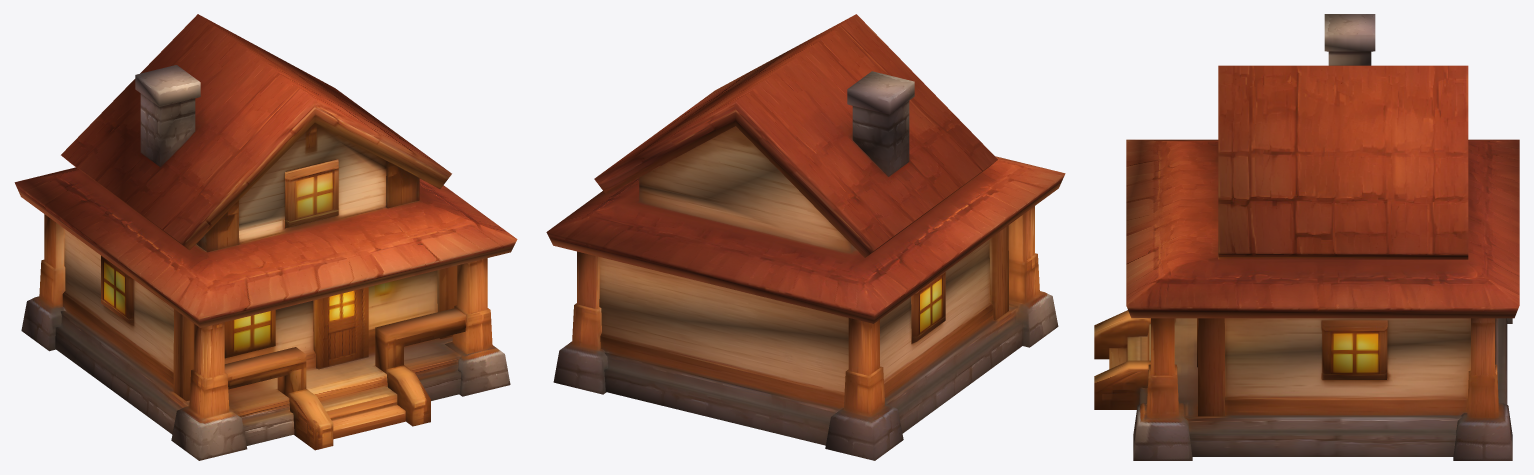
Rendered from ranch.glb.
3 renders of one model, left to right at view 1: azimuth 30°, elevation 25°; view 2: azimuth 150°, elevation 25°; view 3: azimuth 270°, elevation 25°, orthographic. The views are drawn at different scales.
Visible parts, largest first — view 1: house.001; view 2: house.001; view 3: house.001.
Boxes of the visible parts, <box> form: house.001: <box>14,14,517,460</box>; house.001: <box>546,14,1065,460</box>; house.001: <box>1094,14,1519,460</box>.
Size of what is drawn, in the model's own units: 11.84 by 10.44 by 12.8.
Materials: 1 (1 with a texture image).
